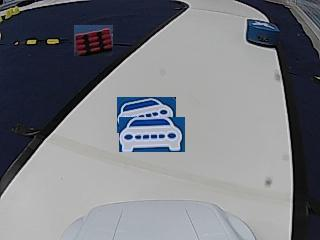prop: (247, 18, 280, 47)
